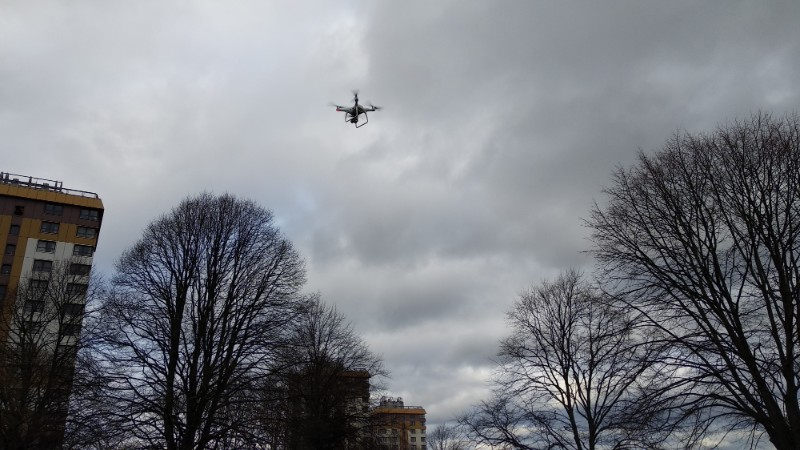drone: (330, 91, 382, 127)
